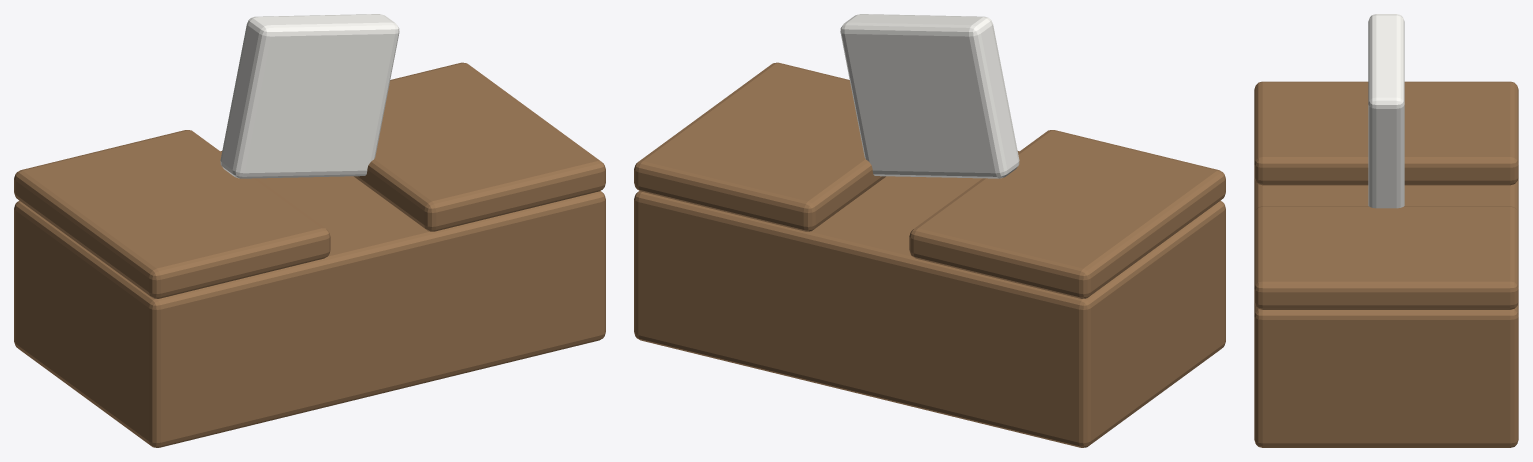
The model's file is minimal-tissue-box-01.glb.
The picture shows the model from 3 angles, left to right: view 1: azimuth 30°, elevation 25°; view 2: azimuth 150°, elevation 25°; view 3: azimuth 270°, elevation 25°; orthographic projection. The views are drawn at different scales.
Parts seen in each view (by area): view 1: minimal-tissue-box-01; view 2: minimal-tissue-box-01; view 3: minimal-tissue-box-01.
Part boxes in pixels (x1,y1,x2,y2): minimal-tissue-box-01: (14,14,605,447); minimal-tissue-box-01: (634,14,1225,447); minimal-tissue-box-01: (1254,14,1518,447).
Size of the model in its own units: 0.24 by 0.1686 by 0.13.
